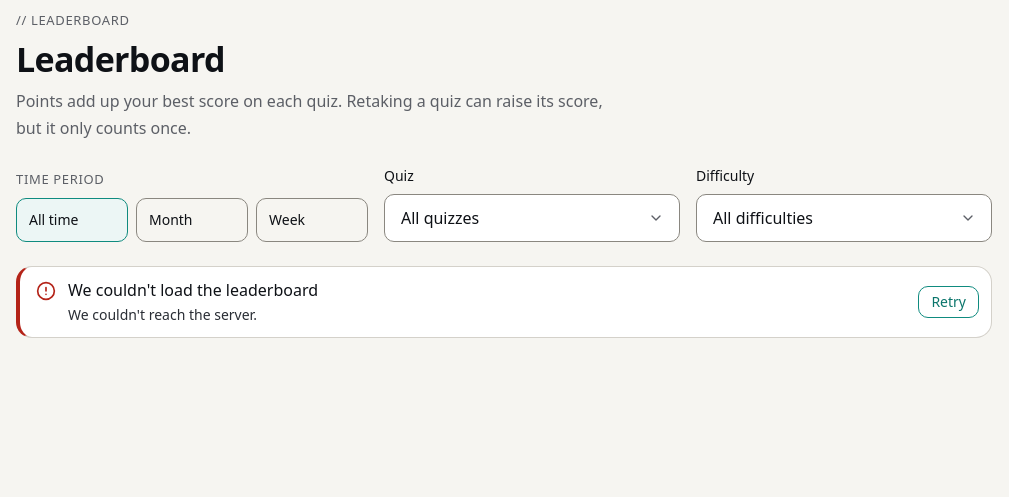
it: Leaderboard page › shows a plain error with Retry
The image size is (1009, 497).
Expected: the text "We couldn't load the leaderboard" is shown, [68,279,318,301]
What coordinates should you click on to do the following:
click the button "Retry"
I would click on:
 (949, 302)
Its box is [918,286,979,318].
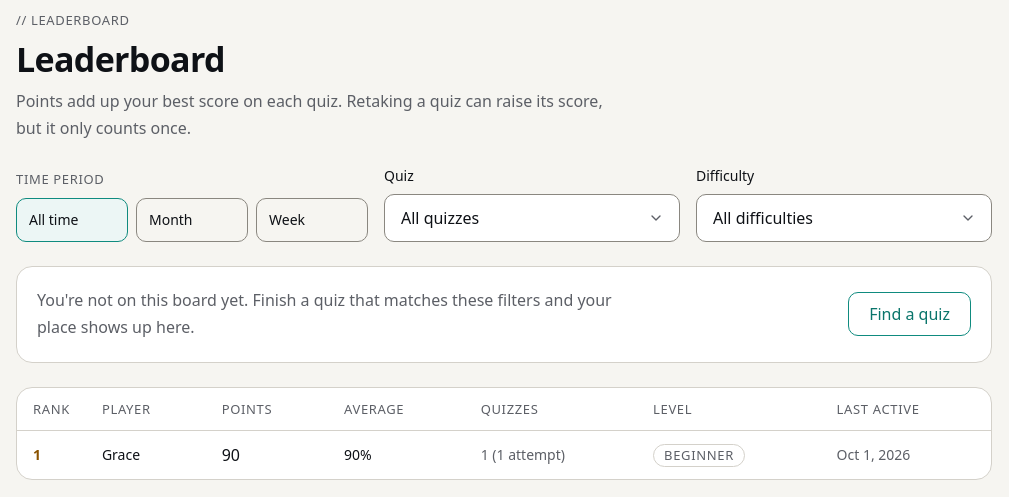
Result: the table is shown at [17,388,991,479]
